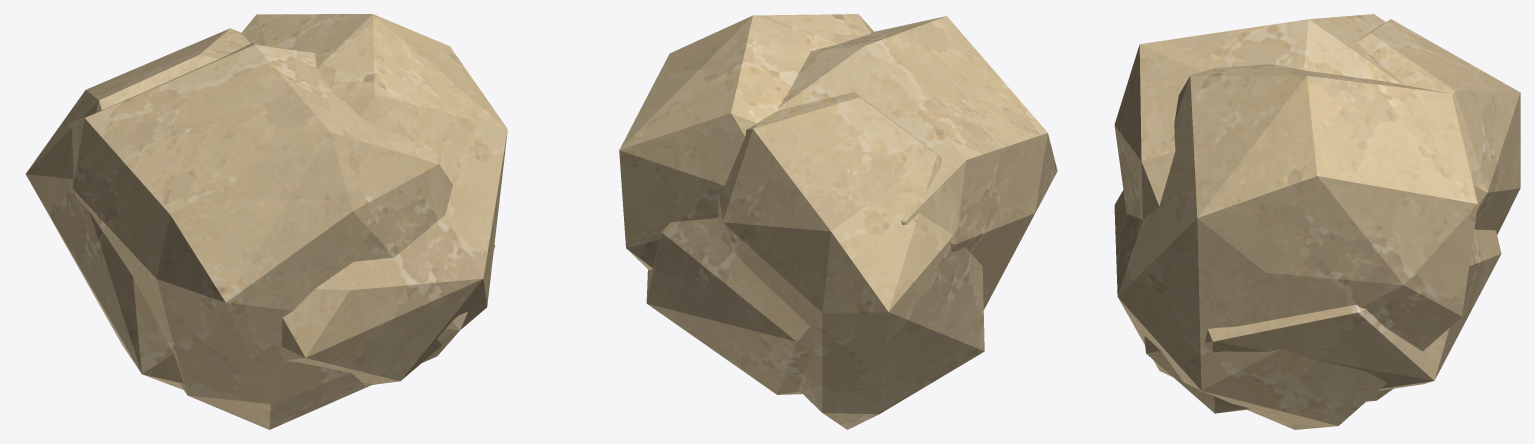
Rendered from ground_bottom_square_interior_02.glb.
3 renders of one model, left to right at view 1: azimuth 30°, elevation 25°; view 2: azimuth 150°, elevation 25°; view 3: azimuth 270°, elevation 25°, orthographic. The views are drawn at different scales.
Visible parts, largest first — view 1: GroundBottomSquareInterior02_Body; view 2: GroundBottomSquareInterior02_Body; view 3: GroundBottomSquareInterior02_Body.
Part boxes in pixels (x1,y1,x2,y2): GroundBottomSquareInterior02_Body: [25, 14, 507, 429]; GroundBottomSquareInterior02_Body: [619, 14, 1057, 429]; GroundBottomSquareInterior02_Body: [1114, 14, 1520, 429].
Size of the model in its own units: 1 by 1.07 by 1.
1 material, 1 textured.
